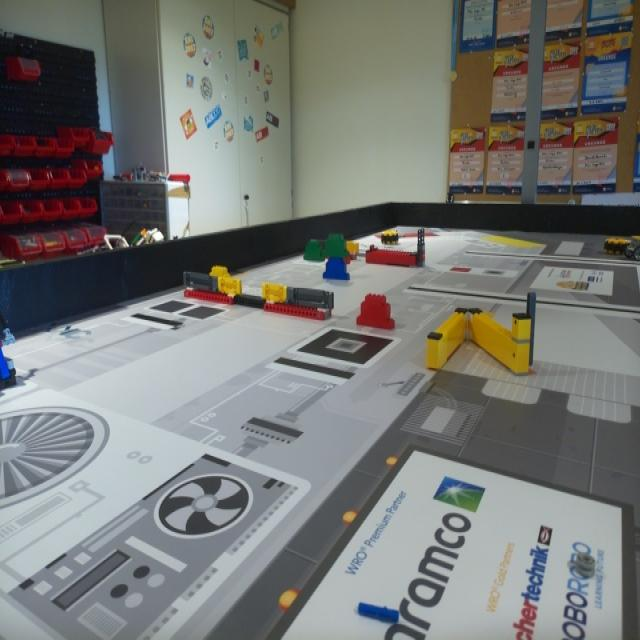blau: (323, 259, 350, 280)
gruen: (301, 232, 326, 263), (322, 233, 352, 257)
rot: (355, 291, 404, 332)
yellow: (208, 264, 229, 279)
